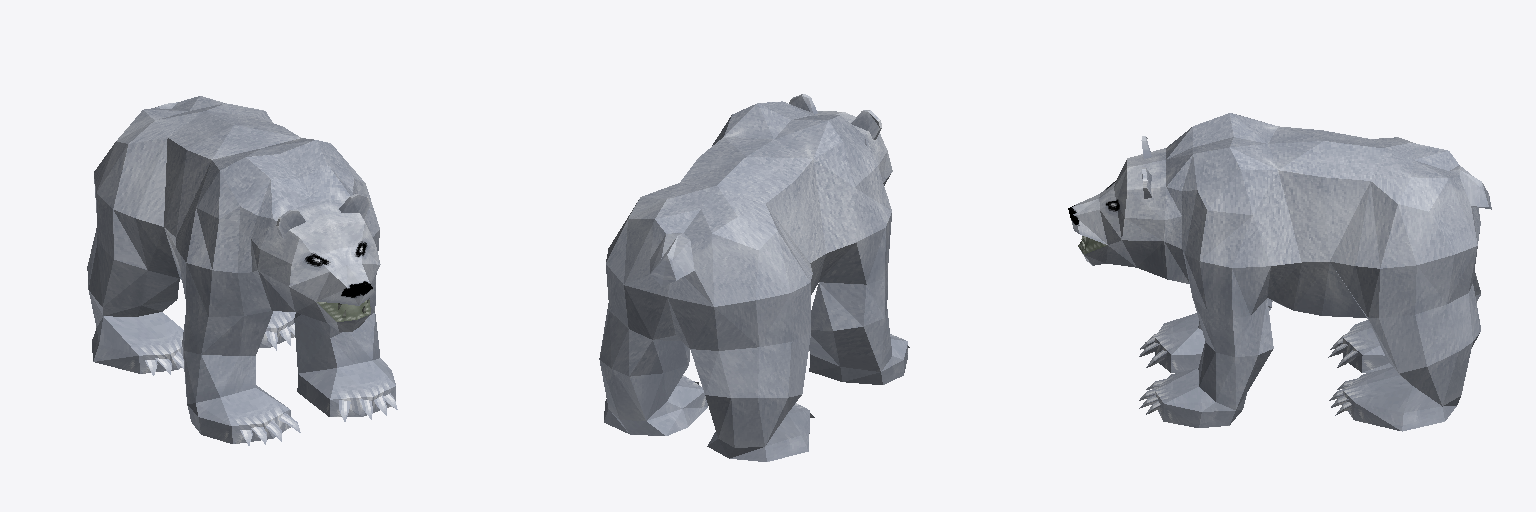
3 renders of one model, left to right at view 1: azimuth 30°, elevation 25°; view 2: azimuth 150°, elevation 25°; view 3: azimuth 270°, elevation 25°, orthographic.
Parts seen in each view (by area): view 1: (null)_Material__12; view 2: (null)_Material__12; view 3: (null)_Material__12.
Boxes of the visible parts, x1,y1,x2,y2 form: (null)_Material__12: [87, 96, 397, 445]; (null)_Material__12: [599, 94, 909, 461]; (null)_Material__12: [1068, 113, 1491, 431].
Size of the model in its own units: 1.43 by 1.69 by 2.57.
Materials: 1 (1 with a texture image).